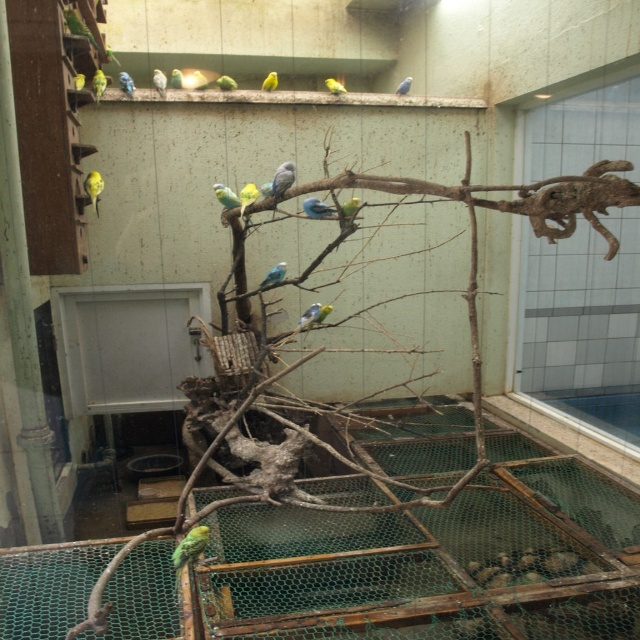Parrot: (174, 526, 212, 569), (270, 160, 297, 206), (257, 260, 289, 291), (84, 168, 104, 209), (301, 196, 337, 218), (215, 187, 244, 208), (299, 302, 319, 328), (239, 184, 260, 207), (118, 70, 136, 96), (340, 197, 363, 217), (324, 78, 349, 96), (92, 69, 107, 98), (154, 69, 168, 100), (260, 70, 279, 92), (216, 74, 238, 90), (394, 76, 410, 97), (317, 304, 333, 323), (193, 70, 206, 91), (171, 69, 182, 91), (213, 183, 234, 194), (73, 74, 86, 90)
